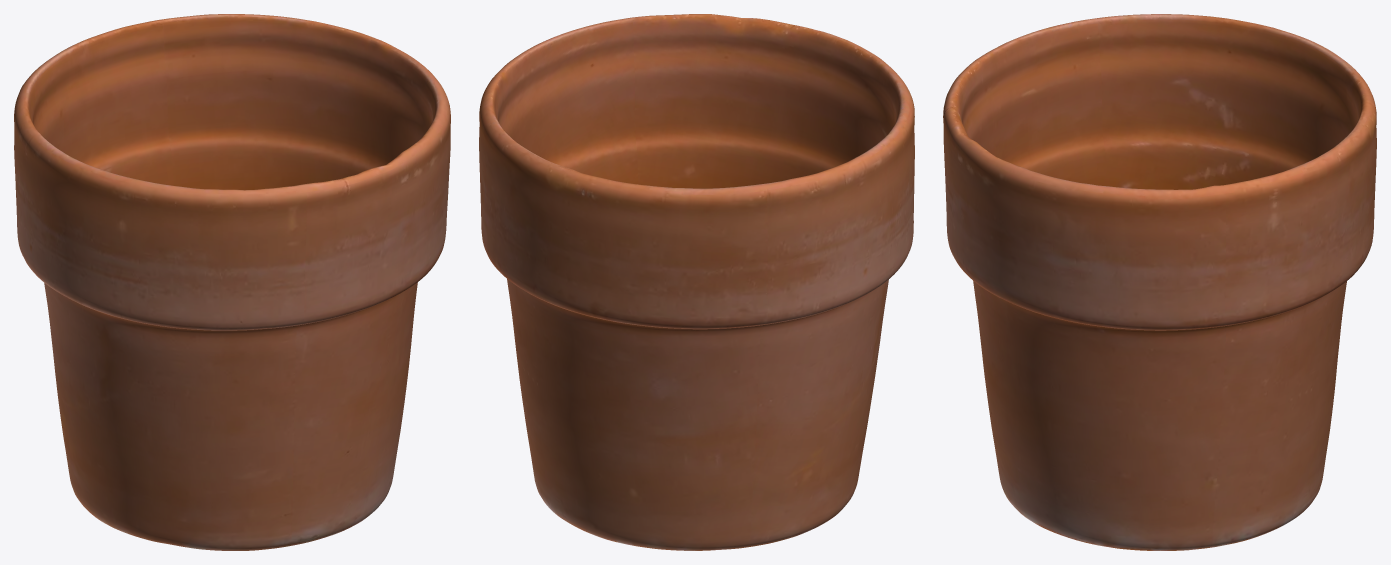
File: compressed_pot.glb
3 views of the same model, side by side, from view 1: azimuth 30°, elevation 25°; view 2: azimuth 150°, elevation 25°; view 3: azimuth 270°, elevation 25° (orthographic).
Parts seen in each view (by area): view 1: PotClayTerracotta001_VAR1; view 2: PotClayTerracotta001_VAR1; view 3: PotClayTerracotta001_VAR1.
Boxes of the visible parts, left/top/right/bottom form: PotClayTerracotta001_VAR1: left=14, top=14, right=450, bottom=550; PotClayTerracotta001_VAR1: left=479, top=14, right=914, bottom=550; PotClayTerracotta001_VAR1: left=943, top=14, right=1376, bottom=550.
Size of the model in its own units: 0.1294 by 0.1265 by 0.1288.
Materials: 1 (1 with a texture image).
